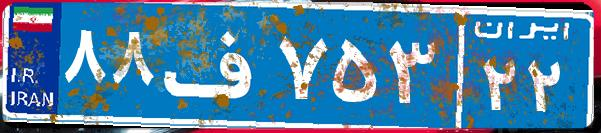2: (475, 38, 525, 113), (525, 38, 570, 115)
3: (385, 28, 445, 110)
5: (330, 28, 385, 110)
7: (273, 28, 330, 110)
8: (57, 26, 110, 107), (110, 28, 158, 105)
ف: (158, 15, 273, 115)
